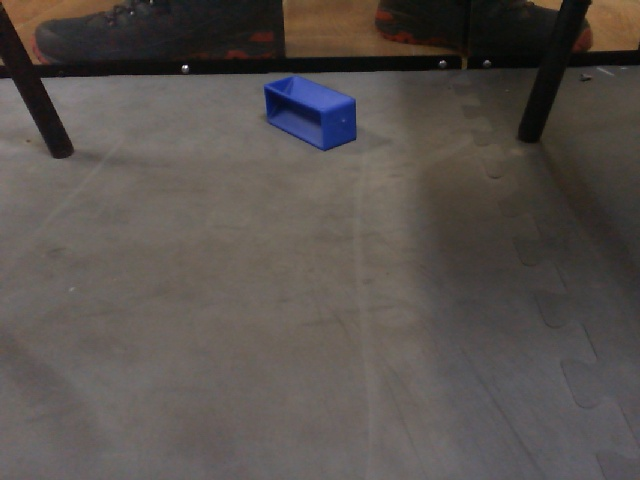BlueSample: (256, 74, 363, 160)
